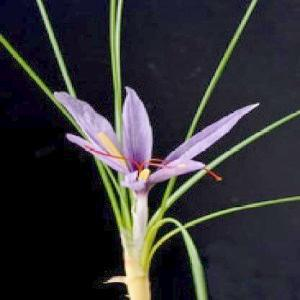Saffron: (60, 91, 245, 216)
